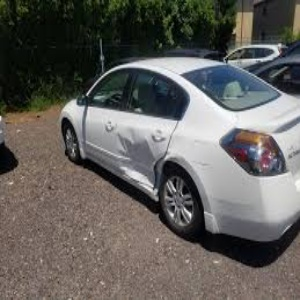door: (96, 122, 162, 187)
